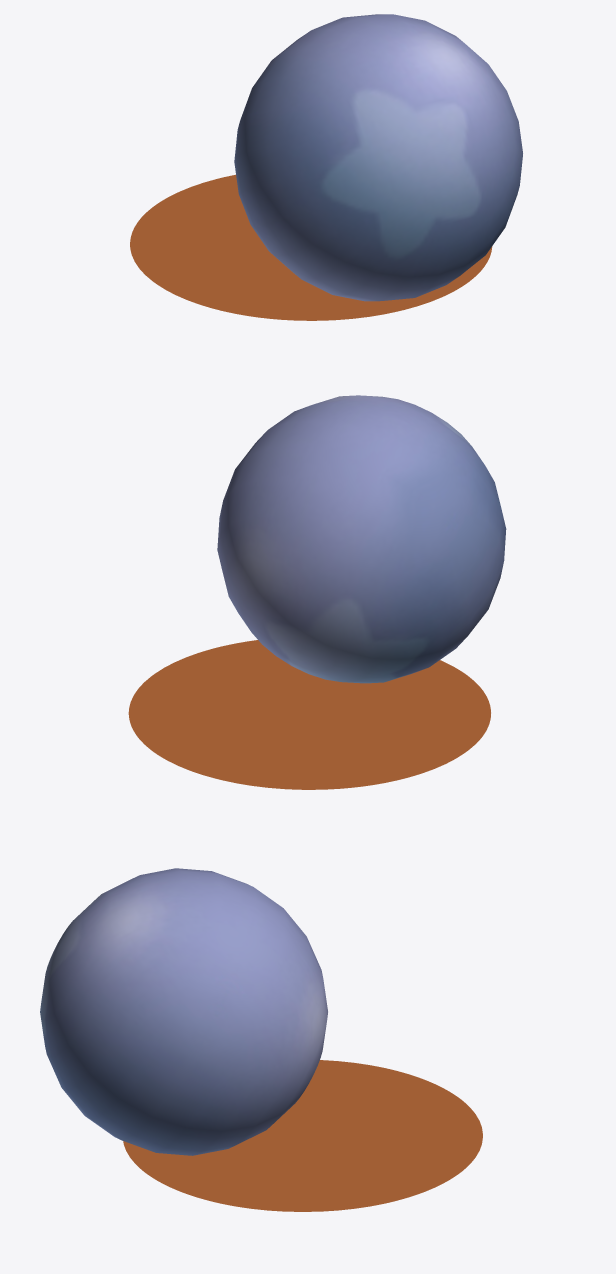
Rendered from 宝宝巴士-主框架-推送地图-游园会-球8.FBX.
3 views of the same model, one above another, from view 1: azimuth 30°, elevation 25°; view 2: azimuth 150°, elevation 25°; view 3: azimuth 270°, elevation 25° (orthographic).
Visible parts, largest first — view 1: 宝宝巴士-主框架-推送地图-游园会-球8; view 2: 宝宝巴士-主框架-推送地图-游园会-球8; view 3: 宝宝巴士-主框架-推送地图-游园会-球8.
Boxes of the visible parts, x1,y1,x2,y2 form: 宝宝巴士-主框架-推送地图-游园会-球8: (130,14,522,320); 宝宝巴士-主框架-推送地图-游园会-球8: (128,395,506,789); 宝宝巴士-主框架-推送地图-游园会-球8: (40,868,482,1211).
Bounding box in the file's own units: 120 × 58.68 × 120.
